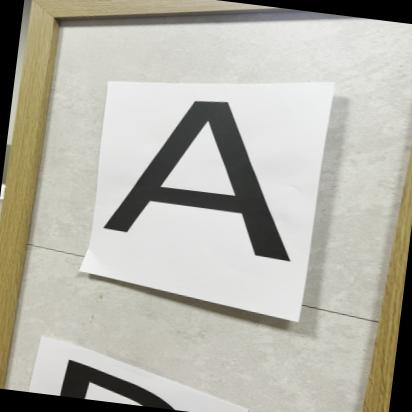seat: (92, 80, 327, 268)
